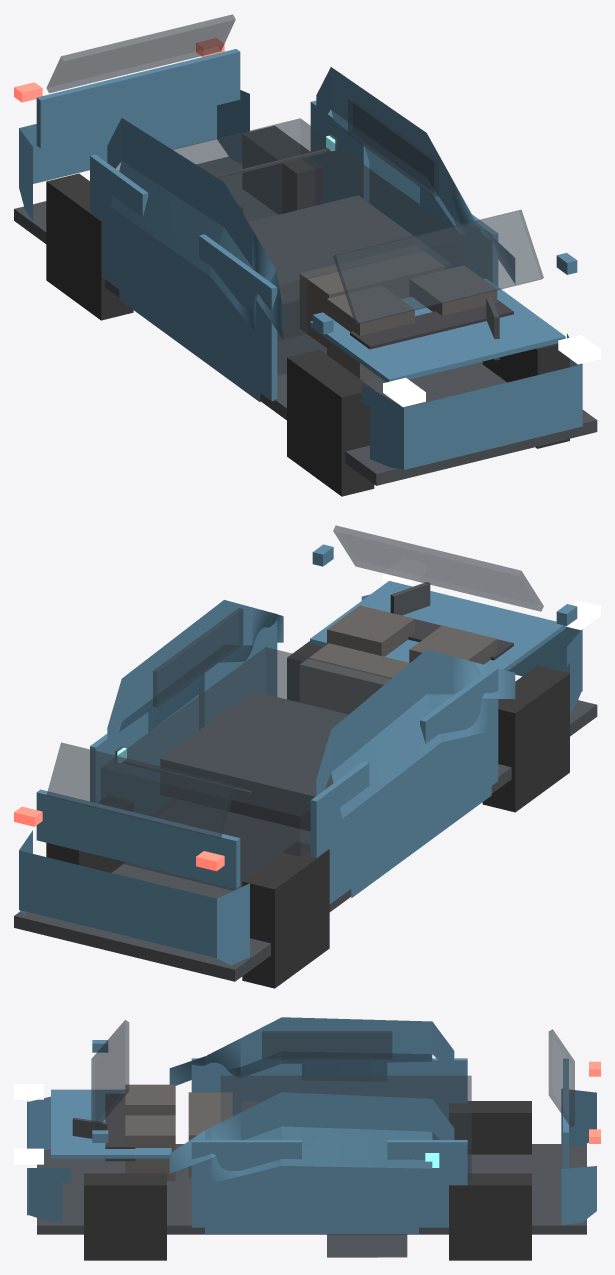
The model's file is pickup.d4688fa9c5.glb.
3 renders of one model, top to bottom at view 1: azimuth 30°, elevation 25°; view 2: azimuth 150°, elevation 25°; view 3: azimuth 270°, elevation 25°, orthographic. The views are drawn at different scales.
Parts seen in each view (by area): view 1: body_mesh, cab_mesh, windshield, tailgate_mesh, trim_mesh, wheel_well_mesh, tire_fr, frunk_mesh, tire_rr, rear_glass, seat_rear, tire_rl (+11 smaller); view 2: body_mesh, cab_mesh, wheel_well_mesh, trim_mesh, tailgate_mesh, rear_glass, tire_rr, tire_fr, windshield, frunk_mesh, seat_rear, door_fl_mesh (+11 smaller); view 3: body_mesh, trim_mesh, cab_mesh, tire_fl, tire_rl, tire_rr, frunk_mesh, window_fixed_r, door_rl_mesh, door_fl_mesh, door_fr_mesh, door_rr_mesh (+13 smaller).
Boxes of the visible parts, x1,y1,x2,y2 form: body_mesh: (19,67,582,469); cab_mesh: (116,118,465,375); windshield: (333,210,543,324); tailgate_mesh: (36,49,240,148); trim_mesh: (14,157,597,485); wheel_well_mesh: (248,195,450,340); tire_fr: (287,349,374,496); frunk_mesh: (310,279,565,382); tire_rr: (46,173,133,320); rear_glass: (46,14,235,93); seat_rear: (299,245,444,347); tire_rl: (242,126,322,214); body_mesh: (19,594,582,965); cab_mesh: (101,647,391,890); wheel_well_mesh: (160,691,348,831); trim_mesh: (14,700,597,981); tailgate_mesh: (36,789,240,888); rear_glass: (46,742,235,838); tire_rr: (242,841,329,988); tire_fr: (482,665,569,812); windshield: (333,525,543,611); frunk_mesh: (310,581,565,670); seat_rear: (299,643,409,714); door_fl_mesh: (199,620,277,729); body_mesh: (27,1017,596,1233); trim_mesh: (37,1144,586,1234); cab_mesh: (220,1075,471,1179); tire_fl: (84,1173,166,1260); tire_rl: (449,1173,531,1260); tire_rr: (449,1101,531,1154); frunk_mesh: (51,1089,171,1158); window_fixed_r: (262,1031,392,1059); door_rl_mesh: (387,1140,467,1227); door_fl_mesh: (191,1140,301,1227); door_fr_mesh: (191,1058,301,1115); door_rr_mesh: (387,1058,467,1139).
Size of the model in its own units: 2.22 by 2.23 by 5.85.
